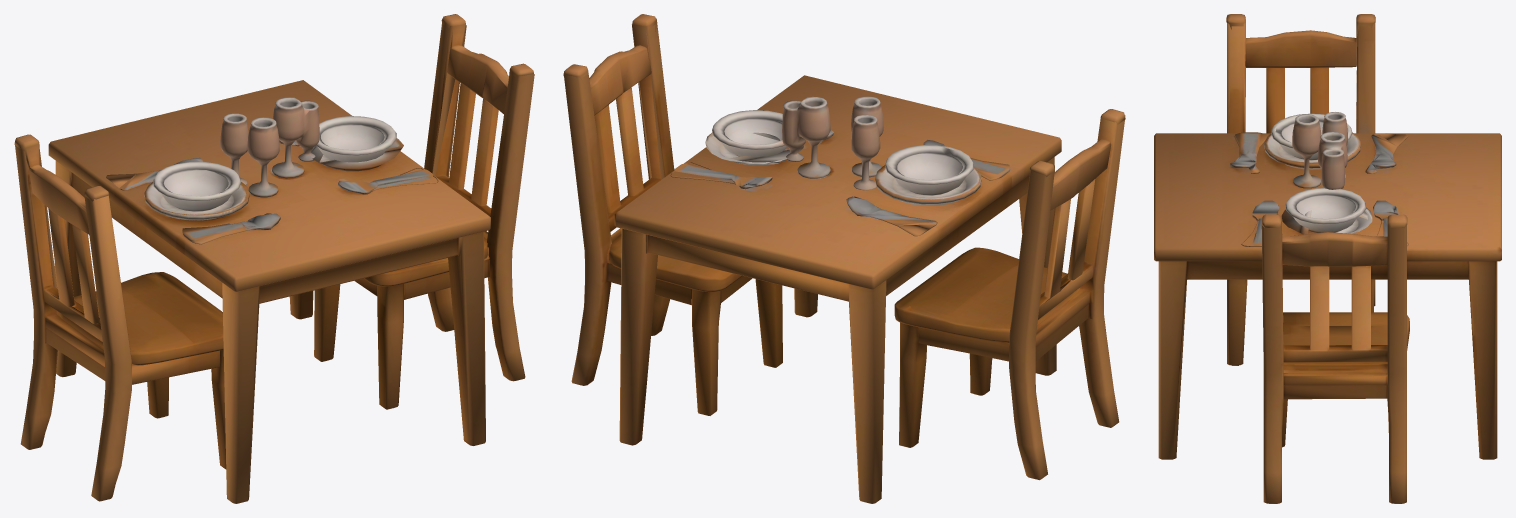
File: dinner_table_f72cb9ee_v4.glb
The picture shows the model from 3 angles, left to right: view 1: azimuth 30°, elevation 25°; view 2: azimuth 150°, elevation 25°; view 3: azimuth 270°, elevation 25°; orthographic projection. The views are drawn at different scales.
Parts seen in each view (by area): view 1: material; view 2: material; view 3: material.
Part boxes in pixels (box(x1,y1,x2,y2)): material: box(14, 14, 534, 503); material: box(563, 14, 1125, 503); material: box(1154, 14, 1501, 503).
Size of the model in its own units: 1.9 by 1.22 by 1.34.
1 material, 1 textured.
